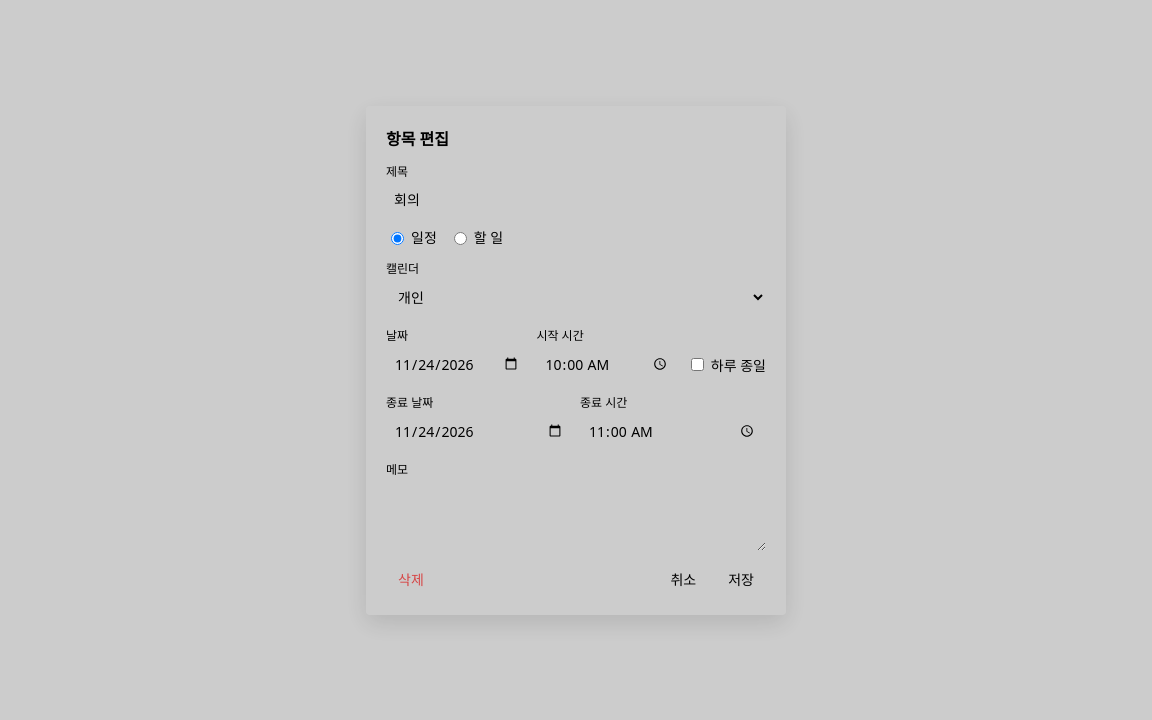
ItemEditDialog › 시작 시간을 지워도 하루 종일로 바뀌지 않는다
Clear the time field labelled "시작 시간" at (608, 364), box [536, 348, 679, 380]
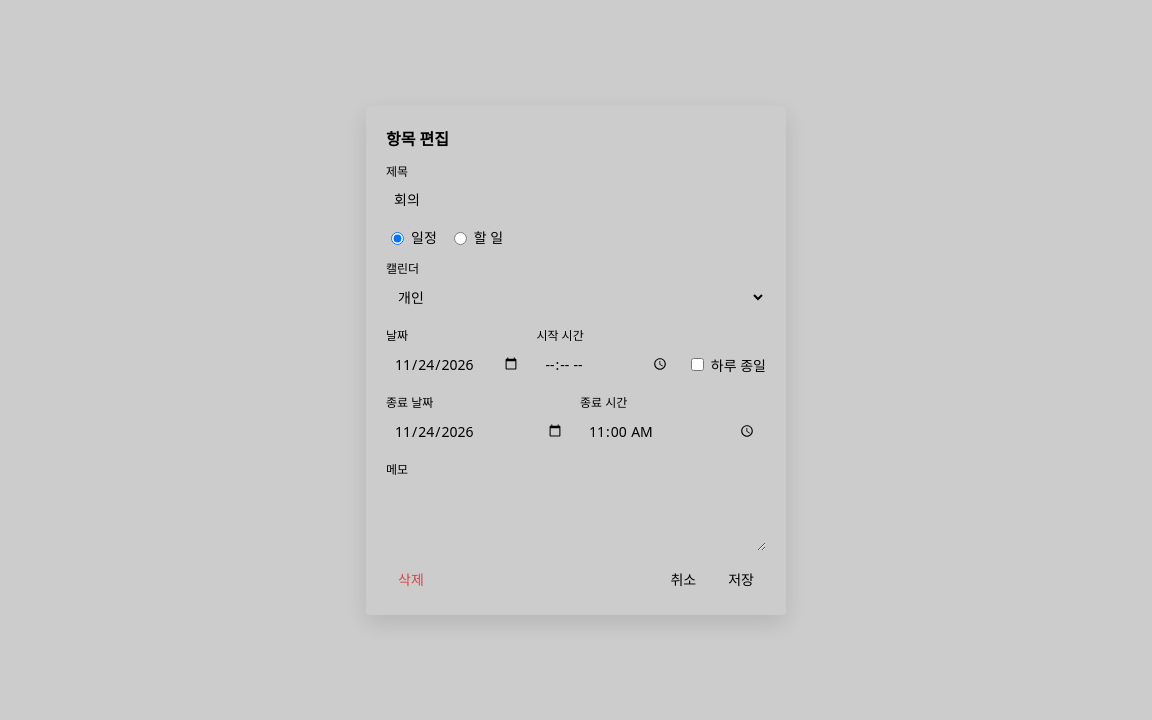
expect the checkbox labelled "하루 종일" is not checked: met, box [691, 358, 704, 371]
Click the button "저장" at (741, 578), box [716, 562, 766, 594]
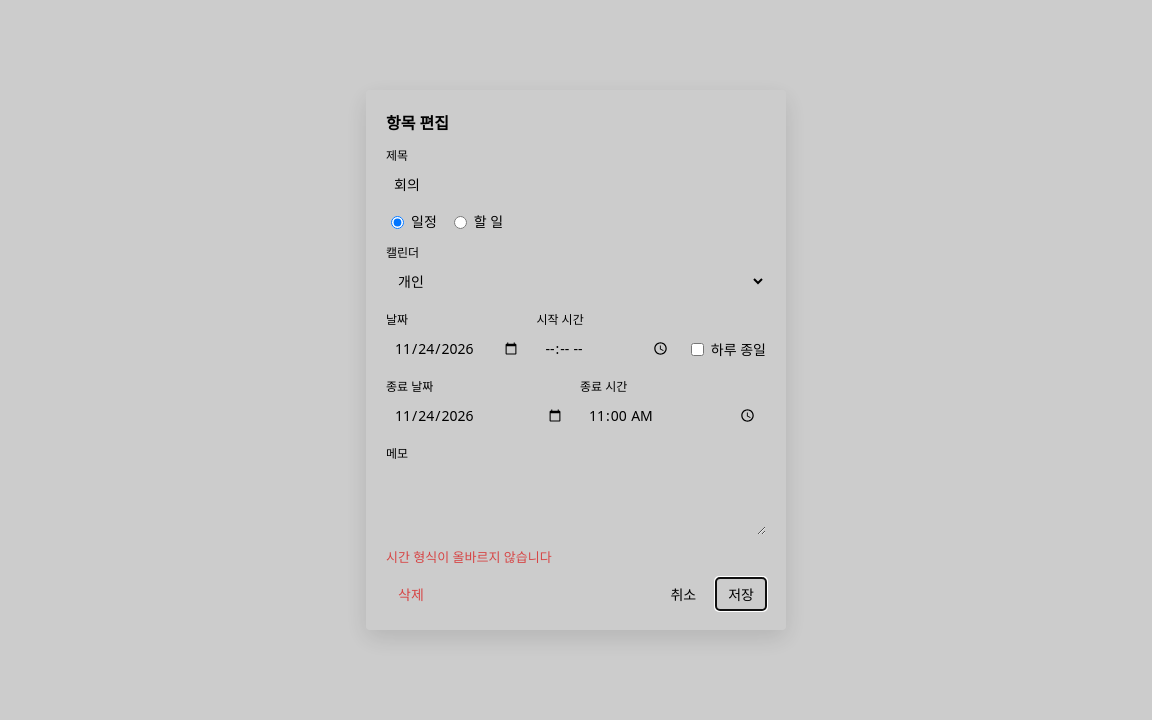
expect the text "시간 형식이 올바르지 않습니다" is shown: met, box [386, 548, 552, 566]
